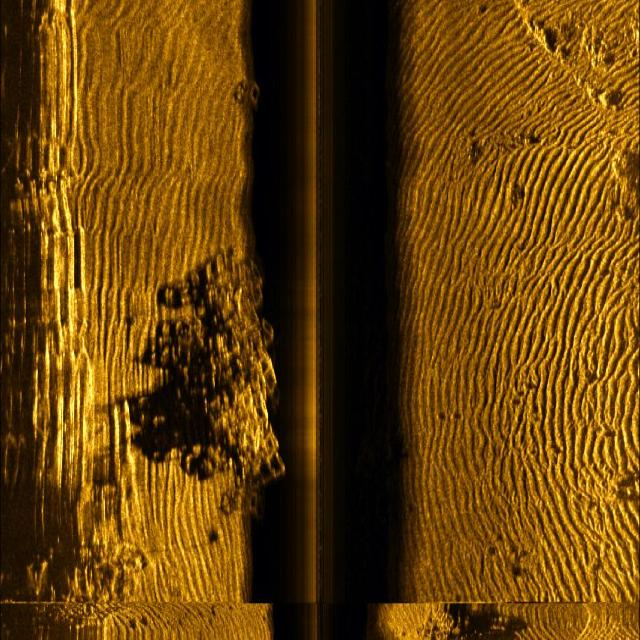artificial reef: (152, 225, 286, 519), (229, 69, 271, 133)
